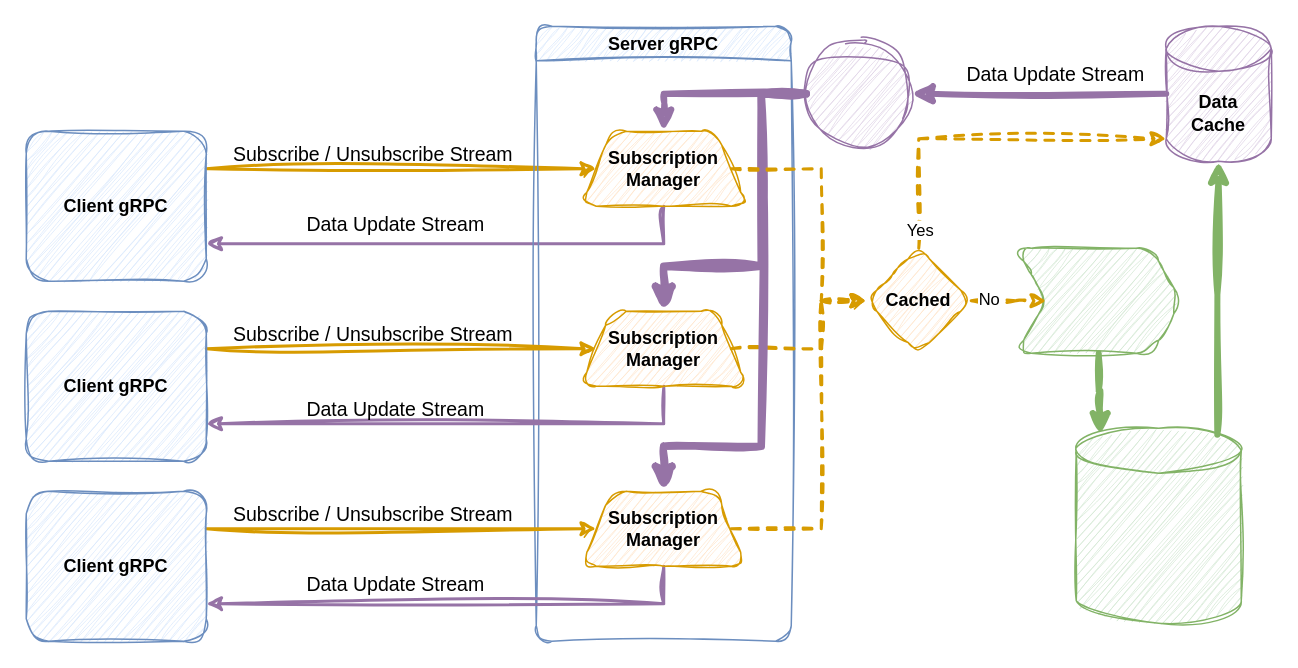
Some shapes in this 1298 by 668 pixel diagram are drawn without their labels. The shapes that lost their labels are listed below. From the top down, each one's centre as x and y in pixels, then its label:
At point (858, 93): "ZIO Hub".
At point (1098, 300): "ZIO Queue".
At point (1158, 525): "External Data".
